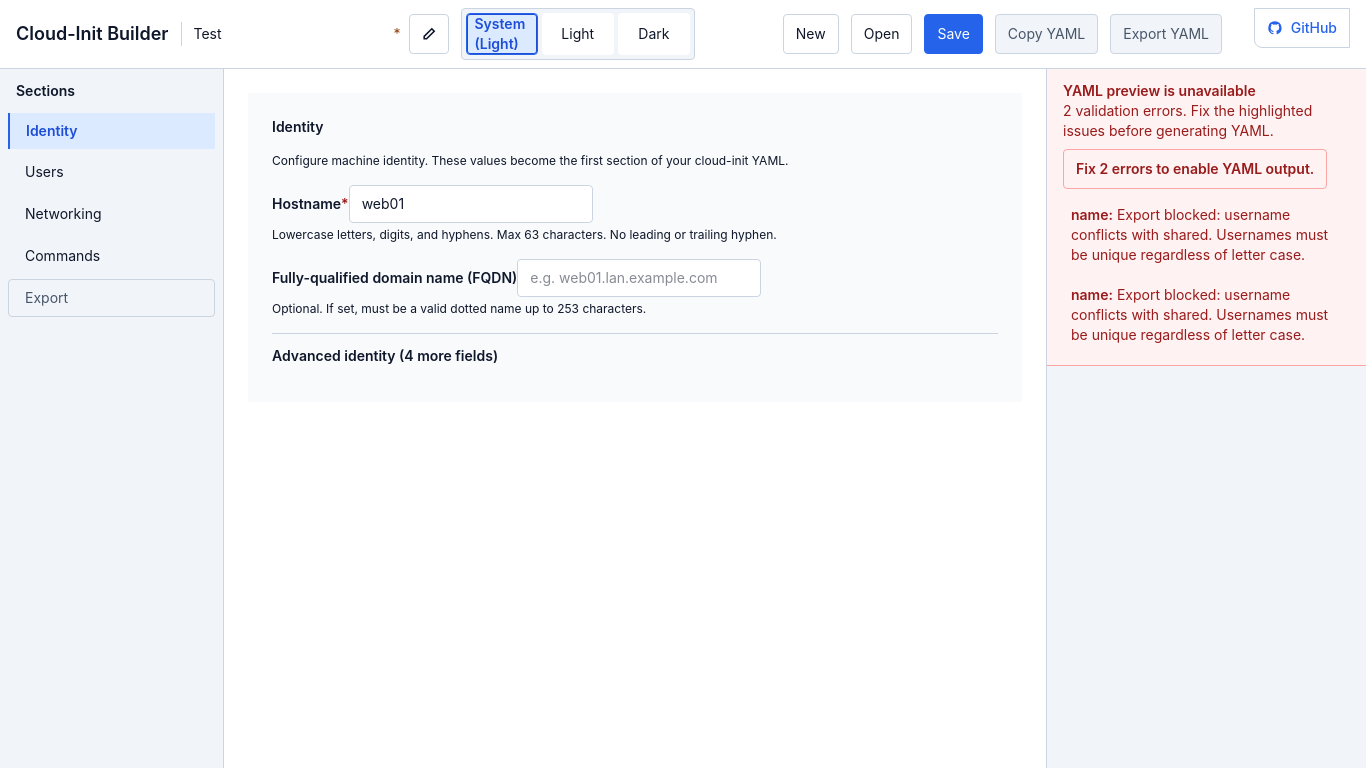
Test: MainLayout export gating › blocks export for duplicate usernames and reveals the Users summary on activation
Step 1. Click the button "Export YAML" → [1166, 34], box [1110,14,1222,54]
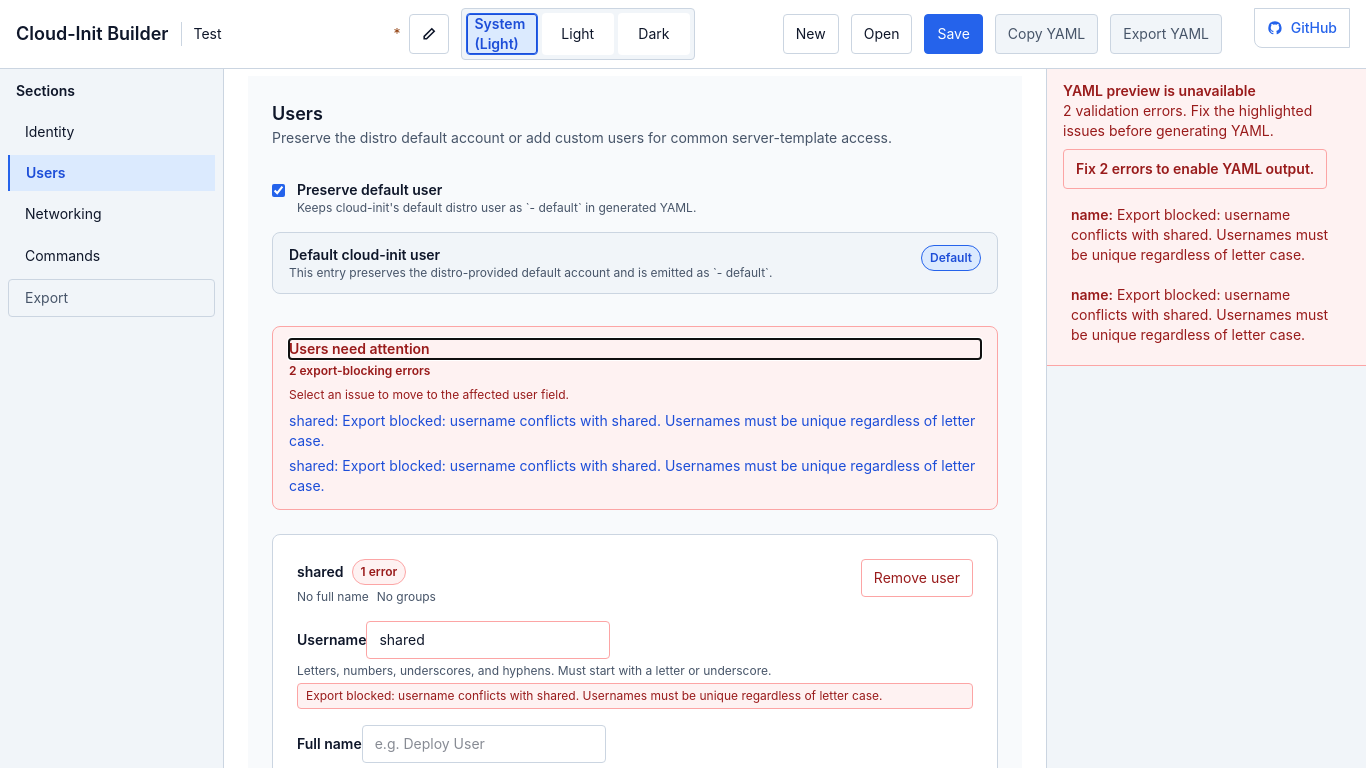
Expected: the heading "Users" is shown, [272,103,323,124]
Expected: the heading "Users need attention" is shown, [289,340,430,357]
